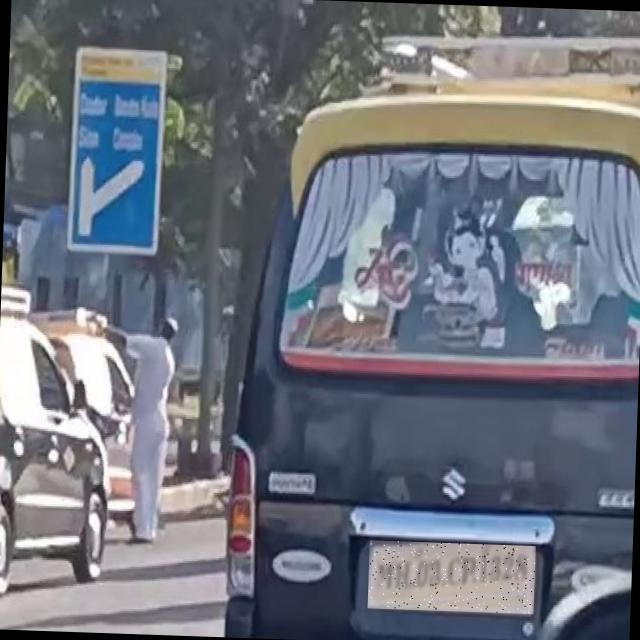Plate: (368, 541, 536, 615)
